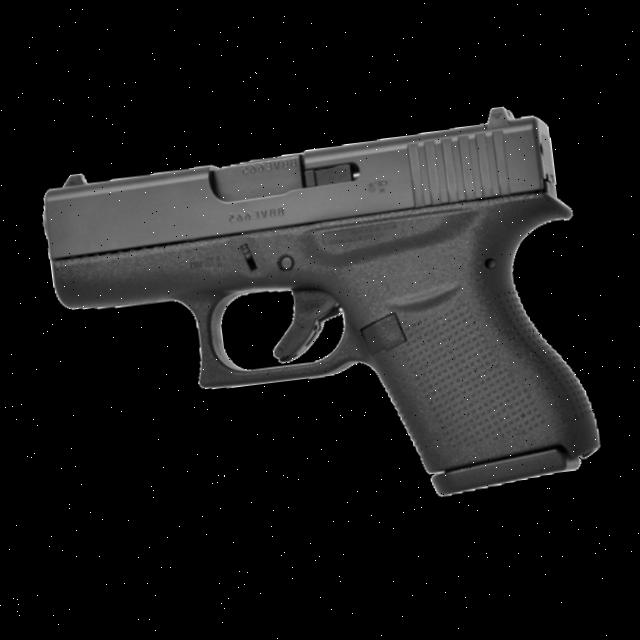Handgun: (21, 63, 640, 544)
